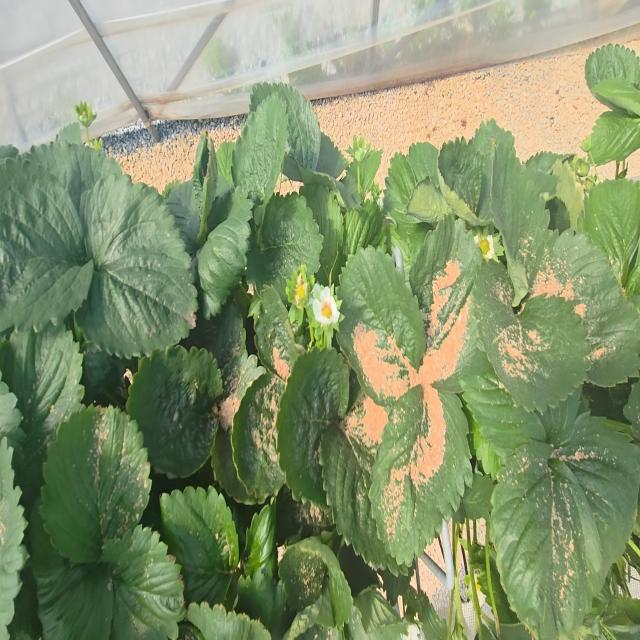Flowers: (312, 286, 340, 326), (474, 234, 497, 260)
Leaves: (76, 174, 197, 359), (489, 442, 602, 639), (369, 386, 471, 567), (41, 405, 151, 563), (470, 263, 589, 409), (531, 229, 640, 386), (0, 323, 84, 518), (0, 158, 93, 331), (555, 414, 640, 579), (339, 249, 427, 404), (320, 392, 393, 569), (409, 220, 482, 393), (127, 345, 222, 477), (276, 349, 349, 506), (29, 508, 114, 639), (491, 141, 550, 299), (459, 352, 546, 459), (104, 524, 184, 639), (160, 487, 238, 604), (246, 193, 323, 300), (211, 351, 264, 503), (231, 371, 286, 503), (22, 140, 122, 212), (196, 190, 252, 318), (279, 537, 353, 628), (583, 178, 640, 295), (232, 93, 288, 204), (249, 84, 322, 168), (164, 171, 235, 257), (0, 437, 28, 639), (300, 175, 343, 277), (439, 135, 492, 217), (255, 285, 300, 380), (383, 152, 431, 229), (585, 44, 640, 91), (245, 498, 275, 575), (406, 178, 451, 221), (591, 78, 640, 115), (406, 143, 438, 185), (216, 141, 236, 185)
Strawberries: (75, 101, 96, 140), (346, 135, 371, 163), (294, 272, 307, 307)
